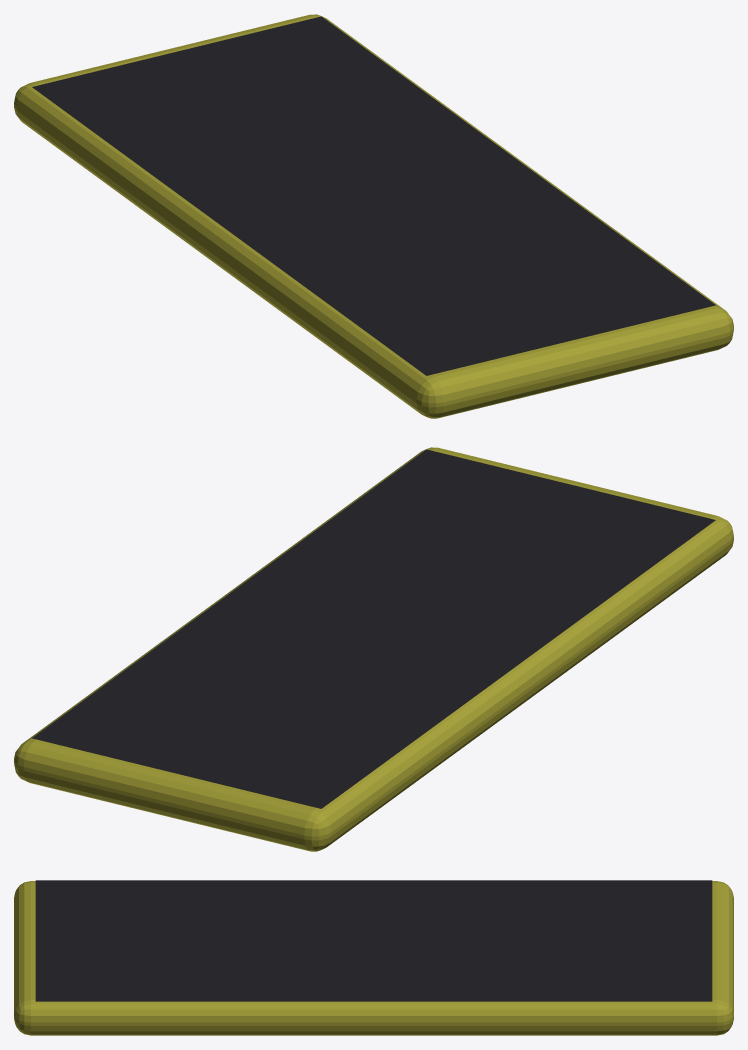
File: Phone_764.glb
3 renders of one model, top to bottom at view 1: azimuth 30°, elevation 25°; view 2: azimuth 150°, elevation 25°; view 3: azimuth 270°, elevation 25°, orthographic. The views are drawn at different scales.
Visible parts, largest first — view 1: Phone_Screen, Phone_Body; view 2: Phone_Screen, Phone_Body; view 3: Phone_Screen, Phone_Body.
Part boxes in pixels (<box>): Phone_Screen: <box>32,16,715,375</box>; Phone_Body: <box>14,14,733,418</box>; Phone_Screen: <box>32,449,715,808</box>; Phone_Body: <box>14,447,733,851</box>; Phone_Screen: <box>35,880,712,1001</box>; Phone_Body: <box>14,881,733,1035</box>.
Size of the model in its own units: 0.0722 by 0.0088 by 0.1668.
